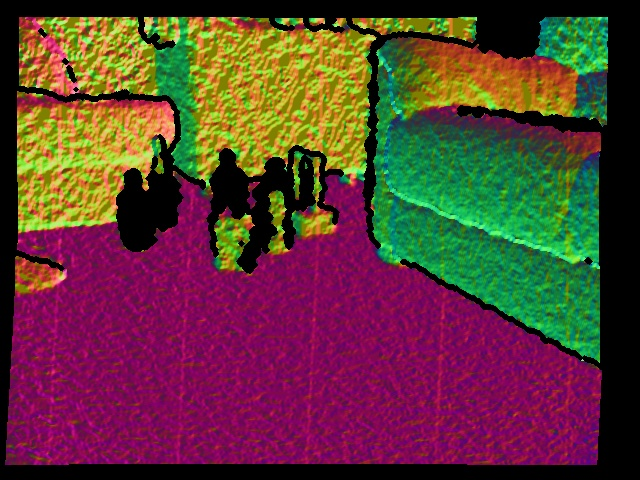station: (286, 148, 338, 236)
